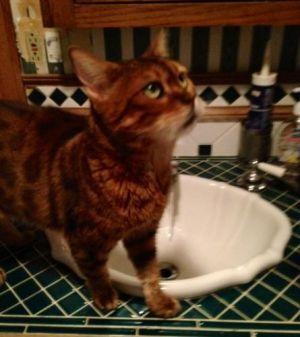bengal: (66, 30, 213, 144)
